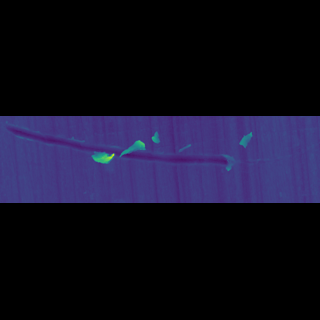Loch: (1, 149, 238, 163), (119, 154, 146, 159), (89, 157, 113, 161), (237, 152, 255, 157), (150, 152, 160, 155)
